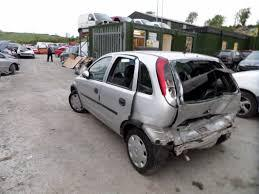Rear-windscreen-Damage: (169, 57, 231, 98)
boot-dent: (179, 96, 234, 130)
rear-bumper-dent: (174, 127, 225, 150)
